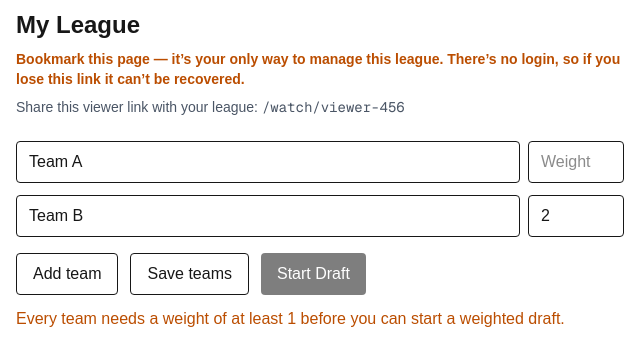
Scenario: Commissioner manage page (weighted mode) › enables Start Draft once every team has a valid weight
Check: the button "Start Draft" is disabled, box [261,253,366,295]
In the number field with placeholder "Weight": (576, 162) [528,141,624,183], type "1"
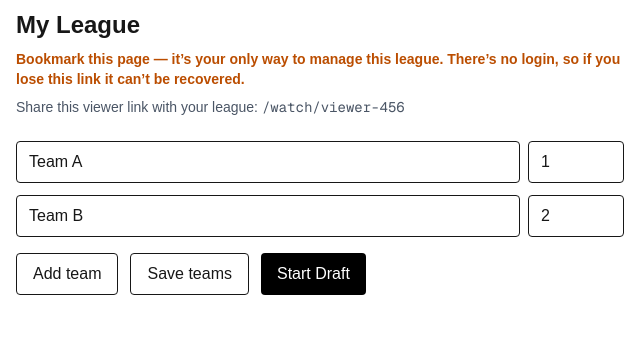
Check: the button "Start Draft" is enabled, box [261,253,366,295]
